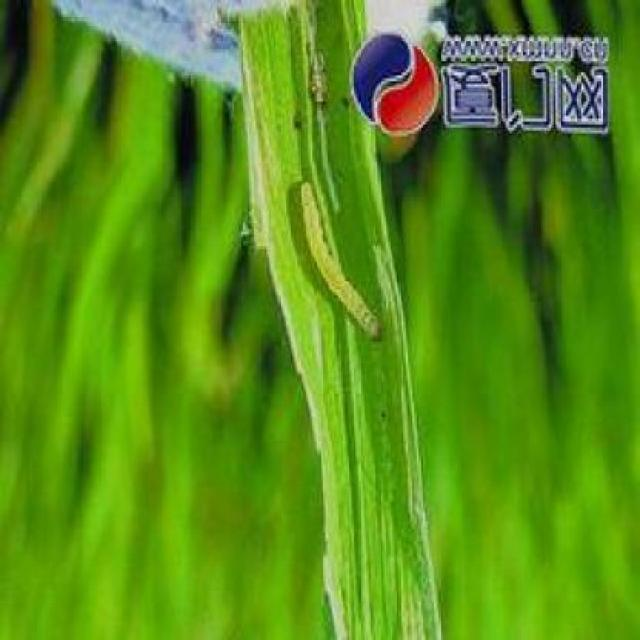leaf-folder: (284, 168, 398, 344)
